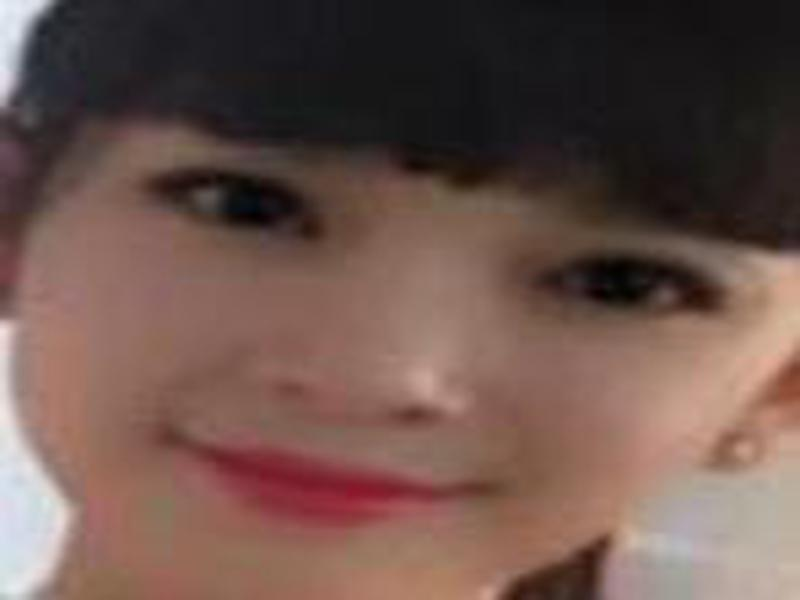without_mask: (34, 25, 772, 600)
